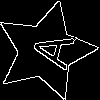A: (21, 26, 75, 71)
